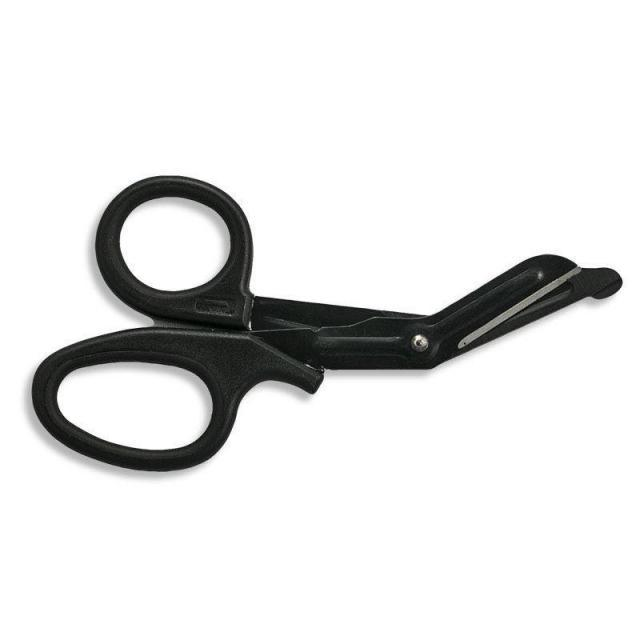scissors: (27, 170, 626, 473)
